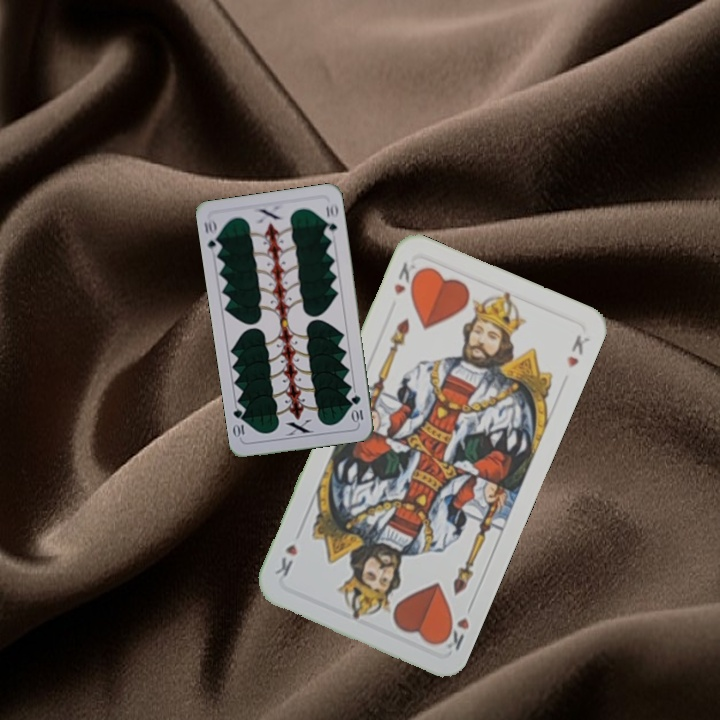G10: (200, 215, 224, 255), (347, 391, 366, 425)
HK: (436, 598, 476, 653), (390, 258, 419, 297)
